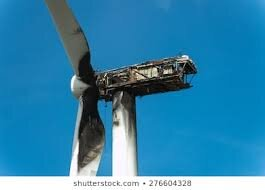faulty: (58, 37, 199, 132)
